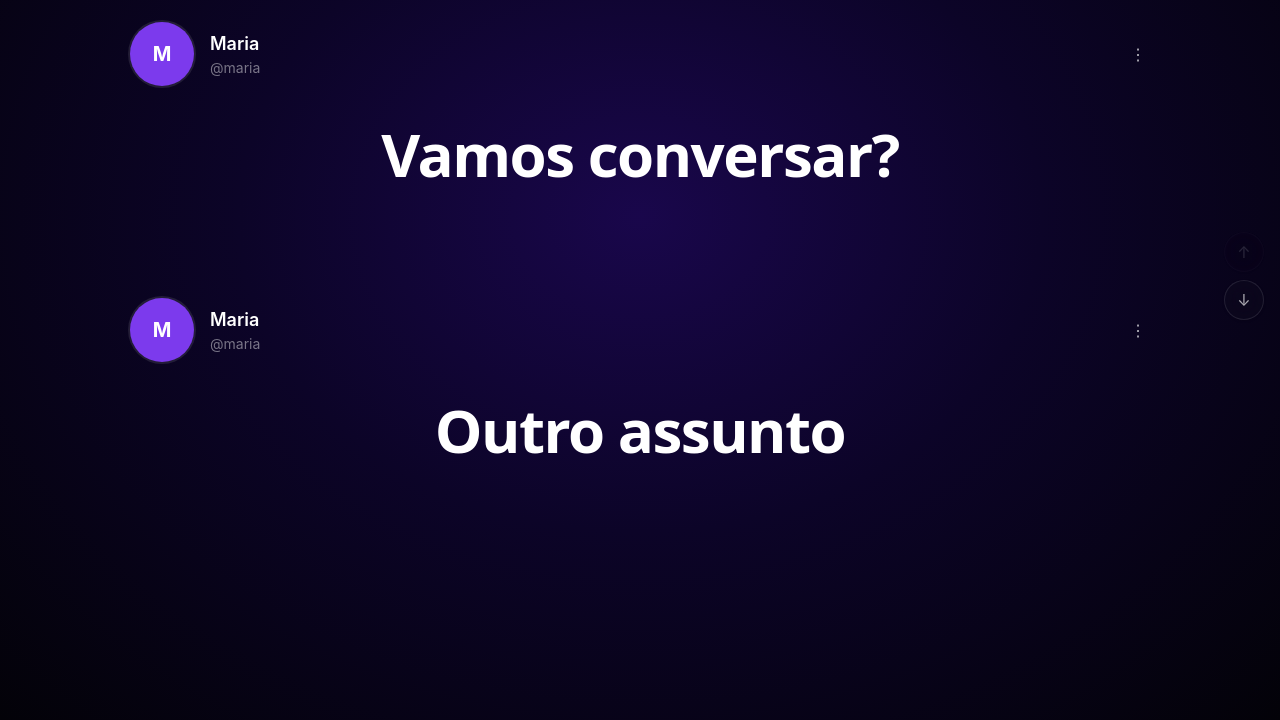
Test: Read › navigates archived clouds with desktop arrows while keeping scroll available
Click the button named "Próxima Cloud".
click(1244, 300)  # box [1224, 280, 1264, 320]
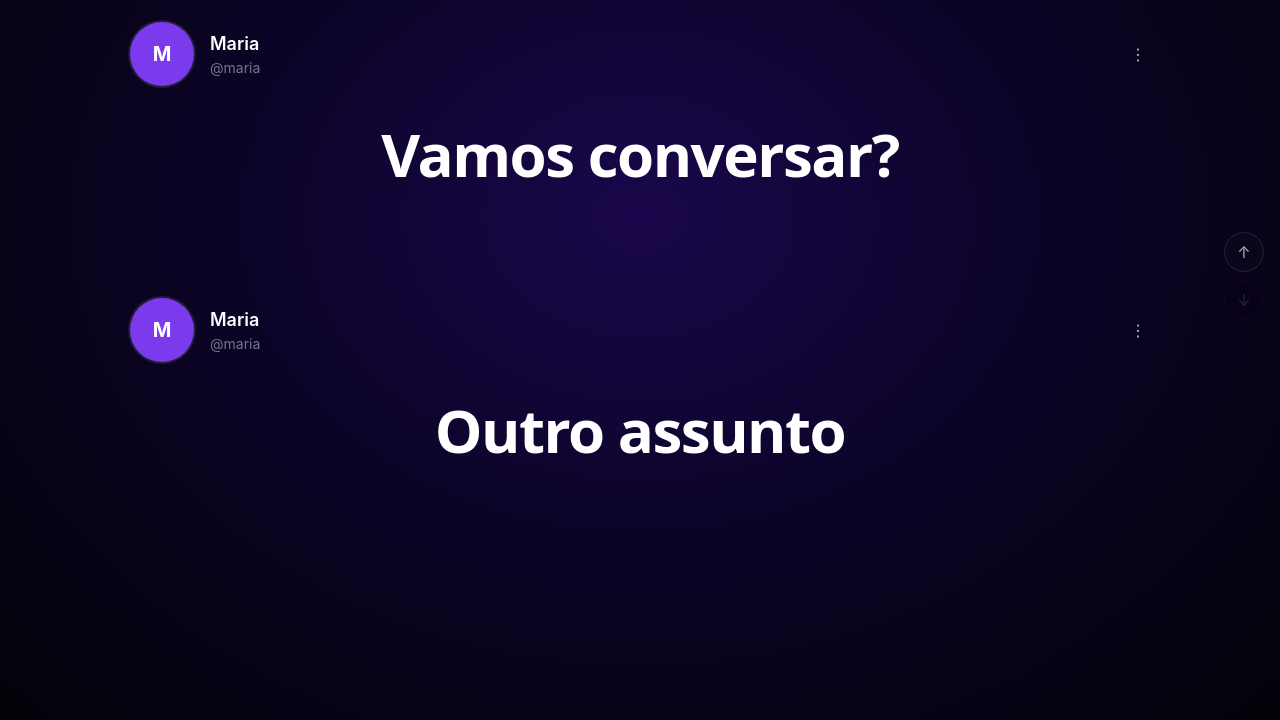
Expected: the button named "Cloud anterior" is enabled, [1224, 232, 1264, 272]
